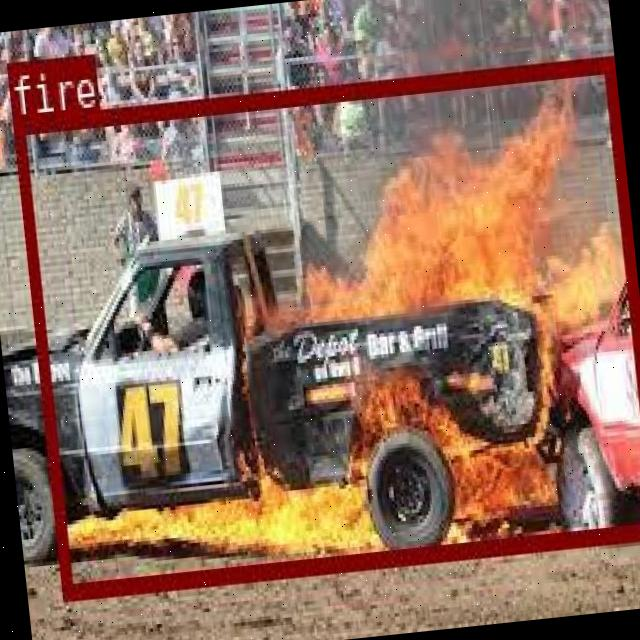fire: (11, 54, 640, 595)
